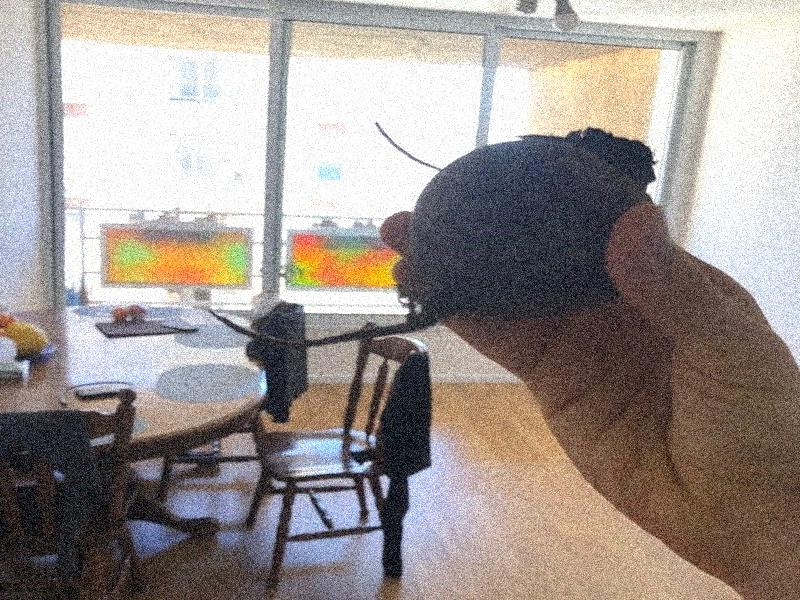Beet: (208, 125, 654, 346)
